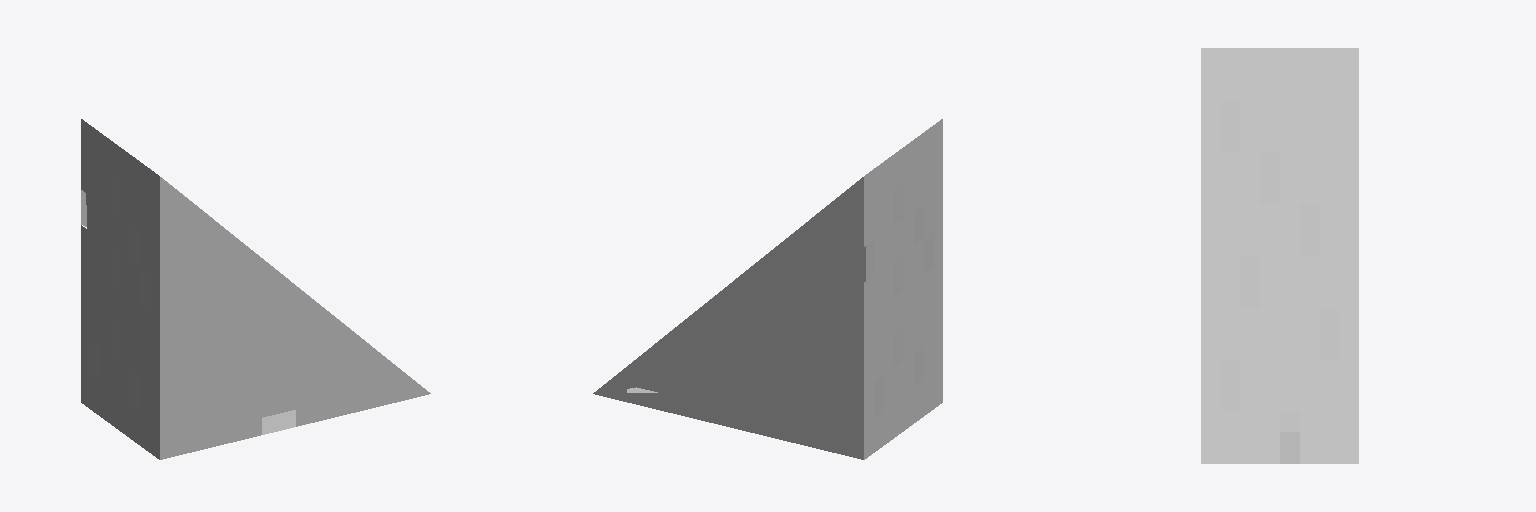
File: chess.obj
3 views of the same model, side by side, from view 1: azimuth 30°, elevation 25°; view 2: azimuth 150°, elevation 25°; view 3: azimuth 270°, elevation 25° (orthographic).
Parts seen in each view (by area): view 1: Cube_Cube.003; view 2: Cube_Cube.003; view 3: Cube_Cube.003.
Part boxes in pixels (left/top/right/bottom): Cube_Cube.003: left=81, top=119, right=430, bottom=459; Cube_Cube.003: left=593, top=119, right=942, bottom=459; Cube_Cube.003: left=1201, top=48, right=1358, bottom=463.
Bounding box in the file's own units: 2 × 2 × 1.01.